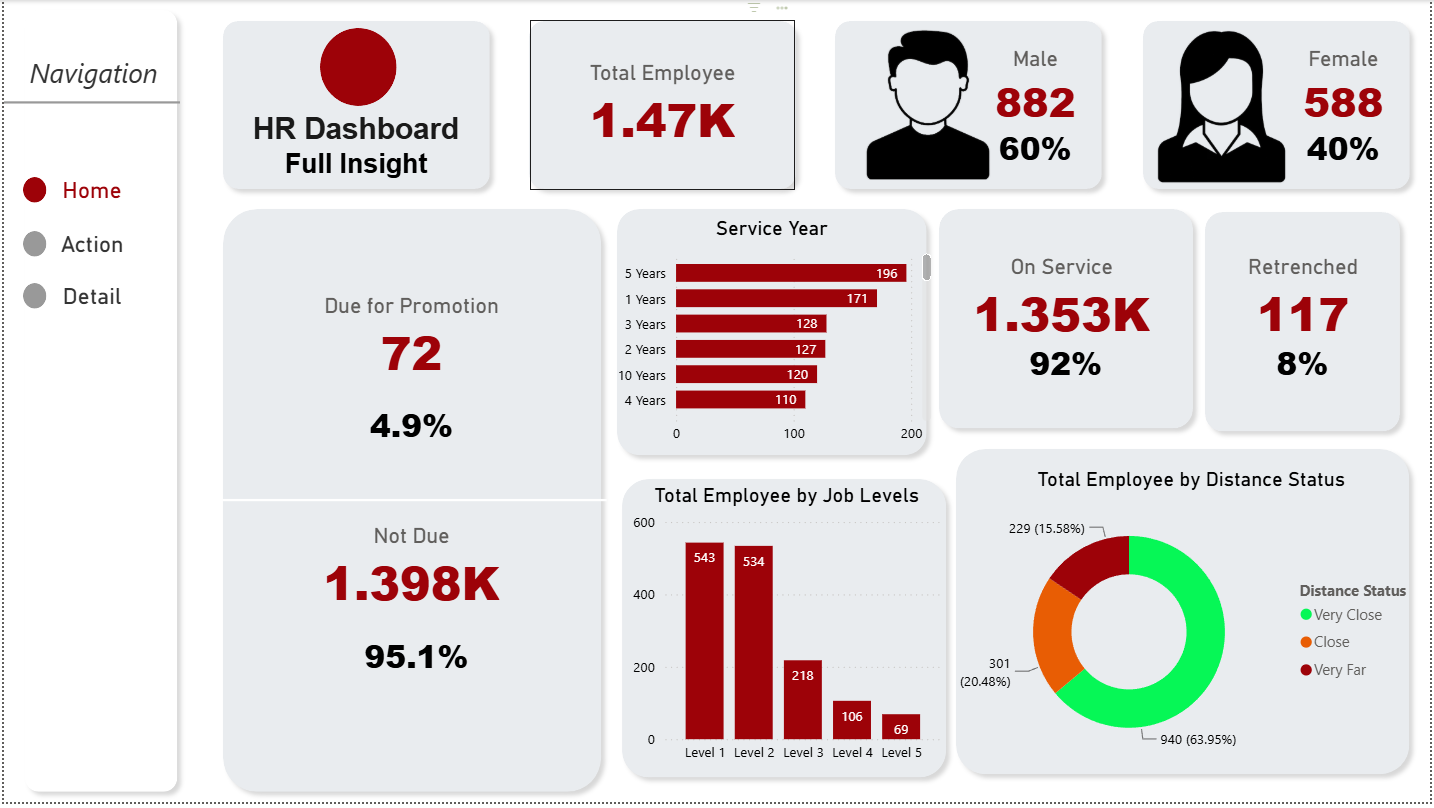

Layout of this report page (visuals, bound fields, positions):
{"tool":"powerbi","page":{"name":"Page 1","canvas":[1280,720],"ordinal":0},"visuals":[{"type":"shape","box":[9.7,0,154.7,719.8],"z":0},{"type":"shape","box":[187.5,10,257.5,168.8],"z":1000},{"type":"shape","box":[462.5,10,257.5,168.8],"z":2000},{"type":"shape","box":[737.5,10,257.5,168.8],"z":3000},{"type":"shape","box":[1013.8,10,257.5,168.8],"z":4000},{"type":"shape","box":[187.5,178.8,357.5,541.2],"z":5000},{"type":"shape","box":[541,179,296,239],"z":6000},{"type":"shape","box":[830,179,246,215],"z":7000},{"type":"shape","box":[546,421,309,286],"z":8000},{"type":"shape","box":[1069,181,193,215],"z":9000},{"type":"shape","box":[846,394,425,310],"z":10000},{"type":"textbox","box":[192,96,248,66],"z":11000},{"type":"textbox","box":[240,128.8,152.5,50],"z":12000},{"type":"shape","box":[283.8,25,68.8,70],"z":13000},{"type":"cardVisual","fields":{"Data":["All Measures.total_emp"]},"box":[472,18,238,153],"z":14000},{"type":"cardVisual","fields":{"Data":["All Measures.Male"]},"box":[866,18,119,121],"z":15000},{"type":"cardVisual","fields":{"Data":["All Measures.% male"]},"box":[866,92,119,79],"z":16000},{"type":"cardVisual","fields":{"Data":["All Measures.Female"]},"box":[1143,18,119,121],"z":17000},{"type":"cardVisual","fields":{"Data":["All Measures.% female"]},"box":[1143,92,119,79],"z":18000},{"type":"image","box":[761,26,137,135],"z":19000},{"type":"image","box":[1000,26,186,139],"z":20000},{"type":"cardVisual","fields":{"Data":["All Measures.Due for Promotion"]},"box":[247,227,238,153],"z":21000},{"type":"cardVisual","fields":{"Data":["All Measures.% Due"]},"box":[251,352,229,55],"z":22000},{"type":"cardVisual","fields":{"Data":["All Measures.Not Due"]},"box":[247,434,238,153],"z":23000},{"type":"cardVisual","fields":{"Data":["All Measures.% Not Due"]},"box":[256,559,229,55],"z":24000},{"type":"shape","box":[192,299,349,300],"z":25000},{"type":"barChart","title":"Service Year","fields":{"Category":["HR Analytics Data.Service Year"],"Y":["All Measures.Total Employee"]},"box":[541,194,296,213],"z":26000},{"type":"clusteredColumnChart","fields":{"Y":["All Measures.Total Employee"],"Category":["HR Analytics Data.Job Levels"]},"box":[559,434,287,260],"z":27000},{"type":"cardVisual","fields":{"Data":["All Measures.On Service"]},"box":[846,194,208,149],"z":28000},{"type":"cardVisual","fields":{"Data":["All Measures.% On Service"]},"box":[884,289,138,71],"z":29000},{"type":"cardVisual","fields":{"Data":["All Measures.Retrenched"]},"box":[1069,194,194,149],"z":30000},{"type":"cardVisual","fields":{"Data":["All Measures.% Retrenched"]},"box":[1101,289,130,71],"z":31000},{"type":"donutChart","fields":{"Category":["HR Analytics Data.Distance Status"],"Y":["All Measures.Total Employee"]},"box":[852,419,428,275],"z":32000},{"type":"textbox","box":[10,43,141,53],"z":33000},{"type":"shape","box":[0,62,158,60],"z":33001},{"type":"actionButton","title":"Home","box":[7,159,144,35],"z":33002},{"type":"shape","box":[17,159,21,23],"z":33003},{"type":"actionButton","title":"Action","box":[7,207,144,35],"z":33004},{"type":"shape","box":[17,207,21,23],"z":33005},{"type":"actionButton","title":"Detail","box":[7,254,144,35],"z":33006},{"type":"shape","box":[17,254,21,23],"z":33007}]}

Visuals, with their boxes on the page's 1280x720 design canvas (x1, y1, x2, y2). These are canvas units, not pixel positions in the 1434x808 screenshot, which may show the page scaled, cropped or inside an application window:
shape: 10, 0, 164, 720
shape: 188, 10, 445, 179
shape: 462, 10, 720, 179
shape: 738, 10, 995, 179
shape: 1014, 10, 1271, 179
shape: 188, 179, 545, 720
shape: 541, 179, 837, 418
shape: 830, 179, 1076, 394
shape: 546, 421, 855, 707
shape: 1069, 181, 1262, 396
shape: 846, 394, 1271, 704
textbox: 192, 96, 440, 162
textbox: 240, 129, 392, 179
shape: 284, 25, 353, 95
cardVisual - All Measures.total_emp: 472, 18, 710, 171
cardVisual - All Measures.Male: 866, 18, 985, 139
cardVisual - All Measures.% male: 866, 92, 985, 171
cardVisual - All Measures.Female: 1143, 18, 1262, 139
cardVisual - All Measures.% female: 1143, 92, 1262, 171
image: 761, 26, 898, 161
image: 1000, 26, 1186, 165
cardVisual - All Measures.Due for Promotion: 247, 227, 485, 380
cardVisual - All Measures.% Due: 251, 352, 480, 407
cardVisual - All Measures.Not Due: 247, 434, 485, 587
cardVisual - All Measures.% Not Due: 256, 559, 485, 614
shape: 192, 299, 541, 599
"Service Year" barChart: 541, 194, 837, 407
clusteredColumnChart - All Measures.Total Employee x HR Analytics Data.Job Levels: 559, 434, 846, 694
cardVisual - All Measures.On Service: 846, 194, 1054, 343
cardVisual - All Measures.% On Service: 884, 289, 1022, 360
cardVisual - All Measures.Retrenched: 1069, 194, 1263, 343
cardVisual - All Measures.% Retrenched: 1101, 289, 1231, 360
donutChart - HR Analytics Data.Distance Status x All Measures.Total Employee: 852, 419, 1280, 694
textbox: 10, 43, 151, 96
shape: 0, 62, 158, 122
"Home" actionButton: 7, 159, 151, 194
shape: 17, 159, 38, 182
"Action" actionButton: 7, 207, 151, 242
shape: 17, 207, 38, 230
"Detail" actionButton: 7, 254, 151, 289
shape: 17, 254, 38, 277
